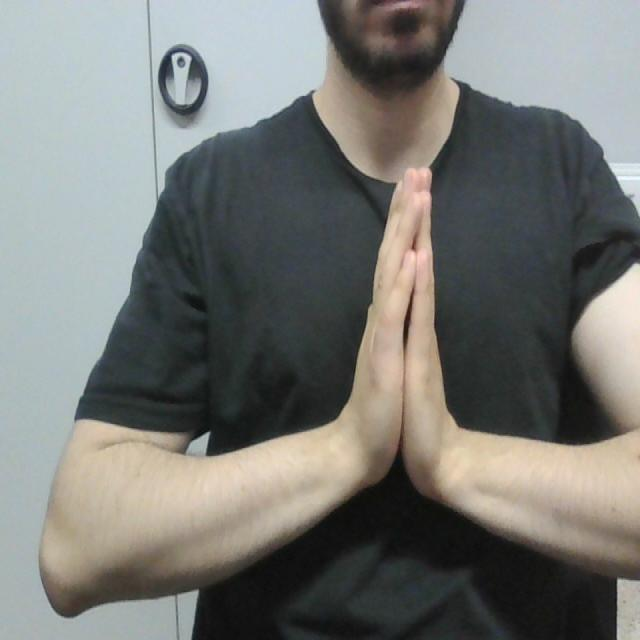Ozur-Dilemek: (339, 156, 464, 512)
